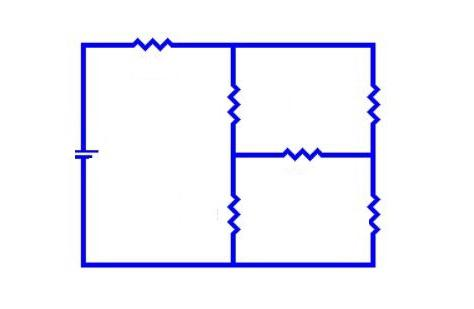resistor: (206, 173, 251, 236), (261, 134, 333, 169), (355, 69, 398, 127), (357, 180, 387, 250), (125, 25, 183, 61), (215, 74, 252, 129)
